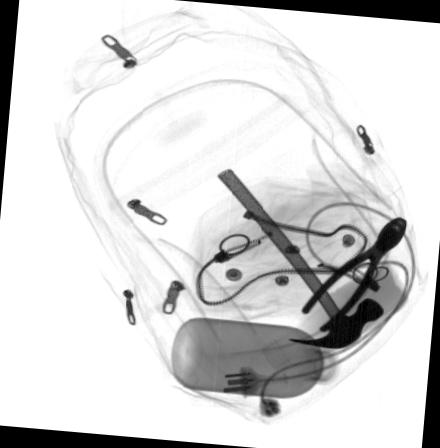Hammer: (217, 167, 384, 350)
Pliers: (299, 216, 407, 333)
